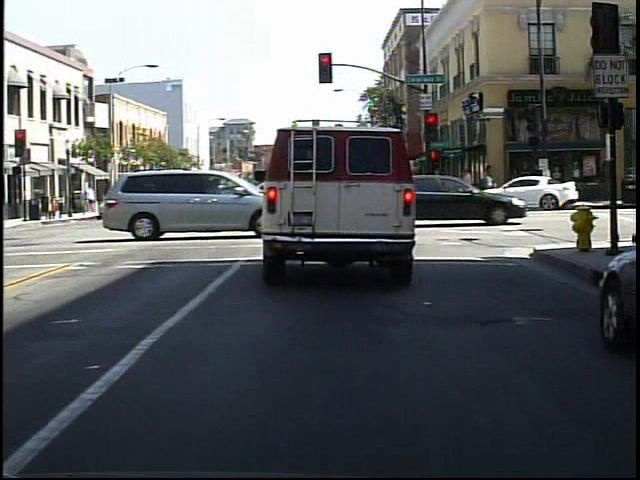person: (524, 158, 546, 208), (506, 162, 527, 206)
